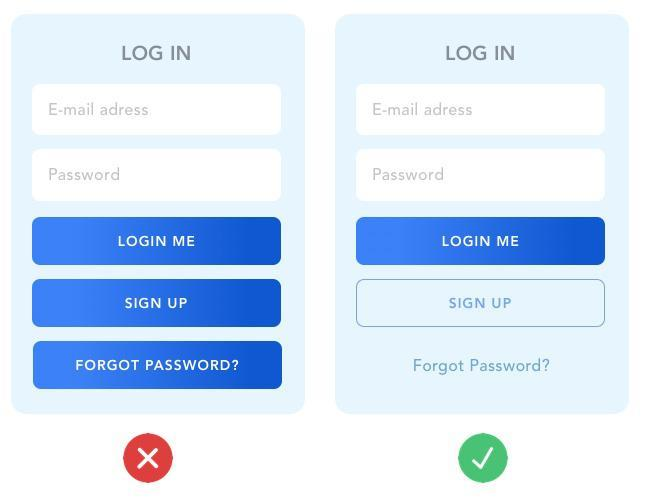button: (31, 278, 283, 328), (34, 341, 284, 391), (33, 218, 283, 267), (356, 218, 607, 266), (356, 280, 606, 327)
input: (357, 149, 607, 204), (356, 84, 606, 137), (33, 148, 282, 201), (32, 86, 281, 136)
label: (412, 356, 551, 377)
